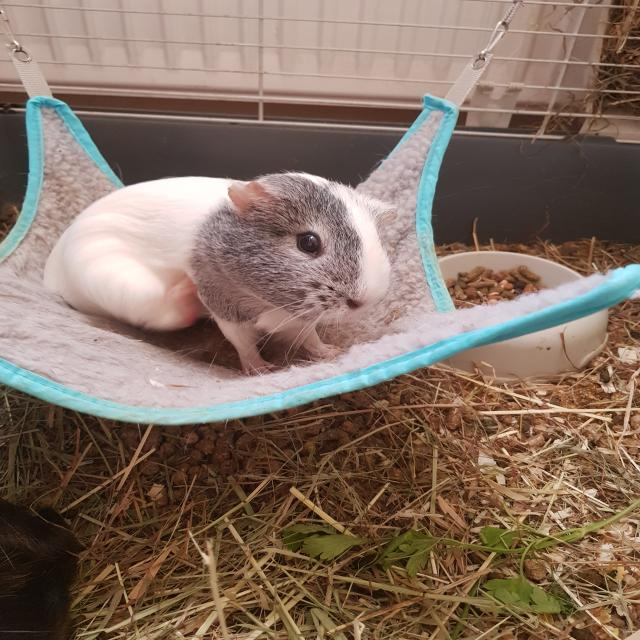guinea pig: (41, 171, 397, 377)
